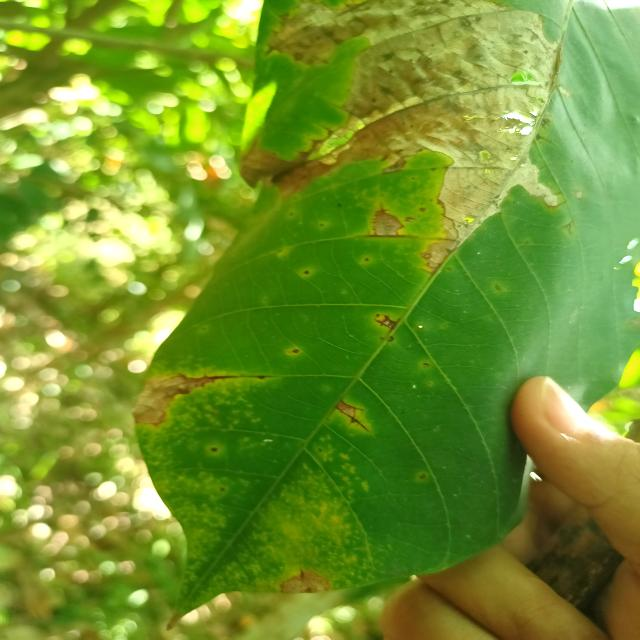Corynespora: (355, 203, 407, 238), (327, 398, 370, 432), (204, 374, 276, 383), (375, 315, 401, 334)
